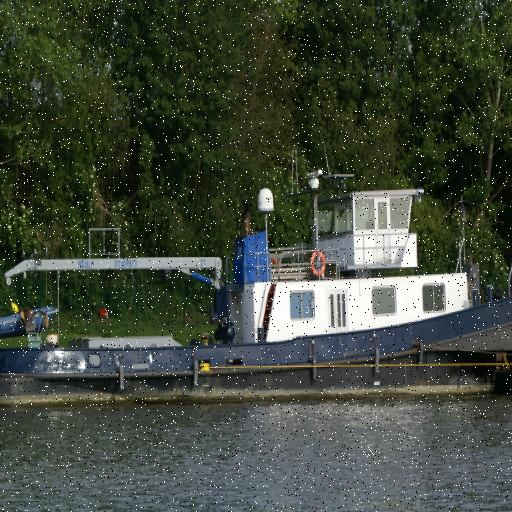tugboat: (1, 141, 512, 430)
